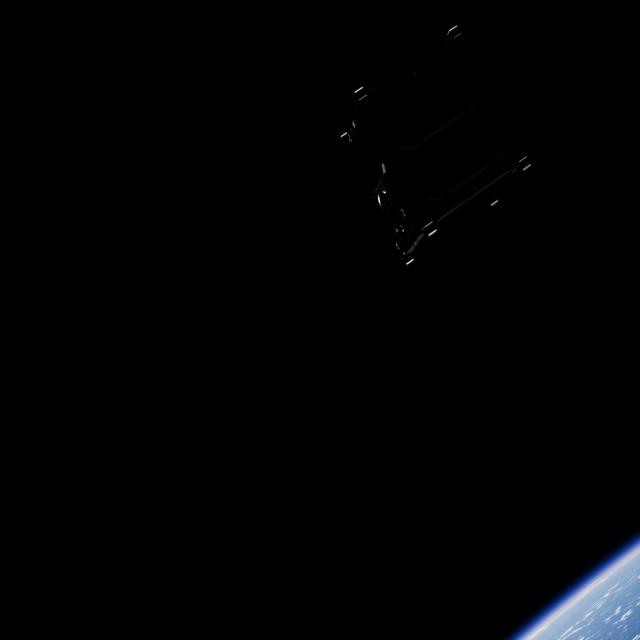satellite: (336, 18, 549, 260)
